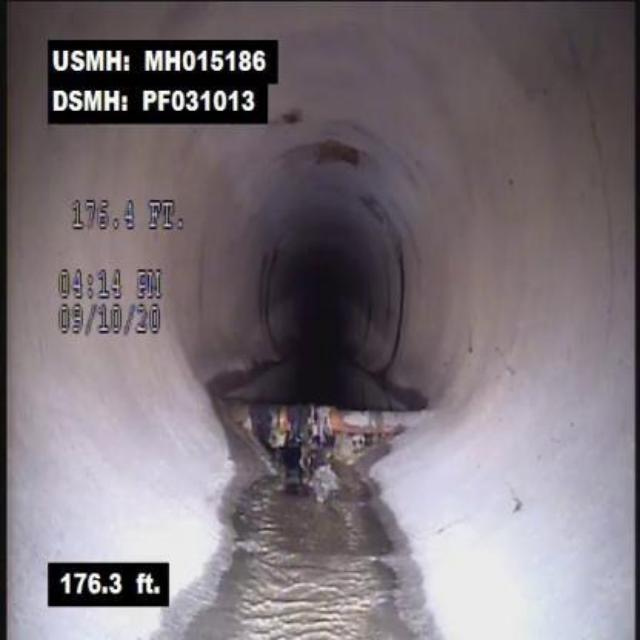Crack: (554, 40, 637, 343)
Utility intrusion: (195, 378, 460, 451)
